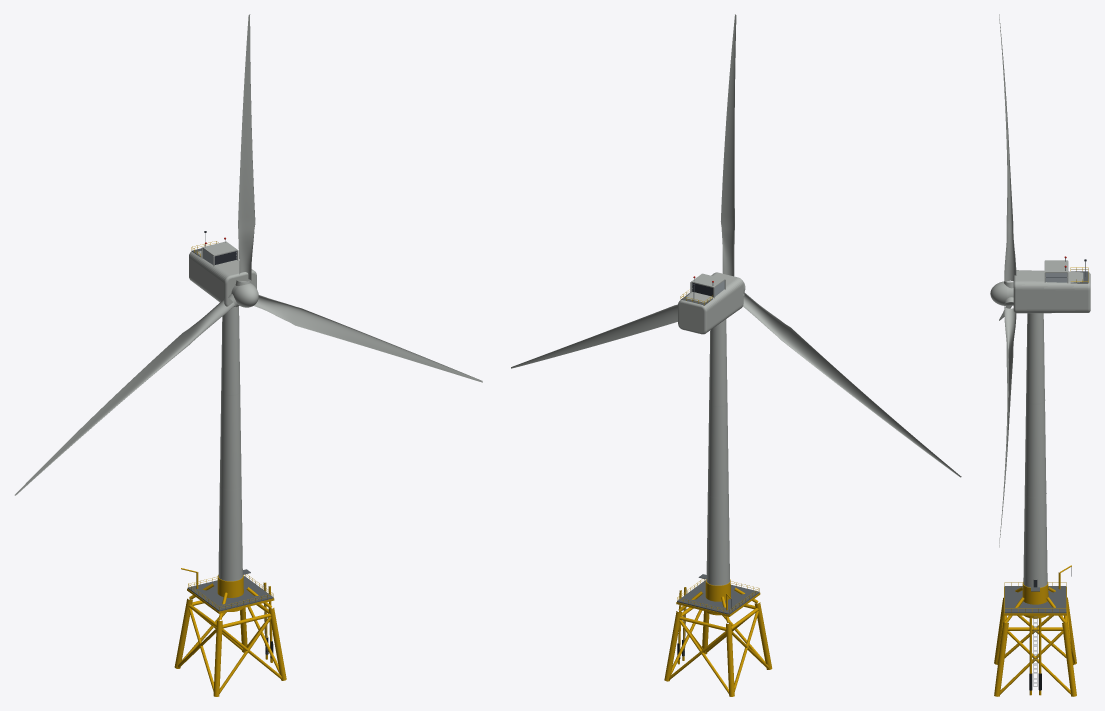
The model's file is turbine.glb.
The picture shows the model from 3 angles, left to right: view 1: azimuth 30°, elevation 25°; view 2: azimuth 150°, elevation 25°; view 3: azimuth 270°, elevation 25°; orthographic projection. The views are drawn at different scales.
Visible parts, largest first — view 1: Tower, Rotor, NacelleShell; view 2: Tower, Rotor, NacelleShell; view 3: Tower, NacelleShell, Rotor.
Boxes of the visible parts, <box> form: Tower: <box>174,306,286,696</box>; Rotor: <box>14,14,482,495</box>; NacelleShell: <box>189,231,256,306</box>; Tower: <box>664,319,772,696</box>; Rotor: <box>511,14,961,477</box>; NacelleShell: <box>678,272,743,334</box>; Tower: <box>994,313,1076,696</box>; NacelleShell: <box>1013,256,1090,313</box>; Rotor: <box>990,14,1016,547</box>.
Size of what is drawn, in the model's own units: 146 by 201 by 27.29.
